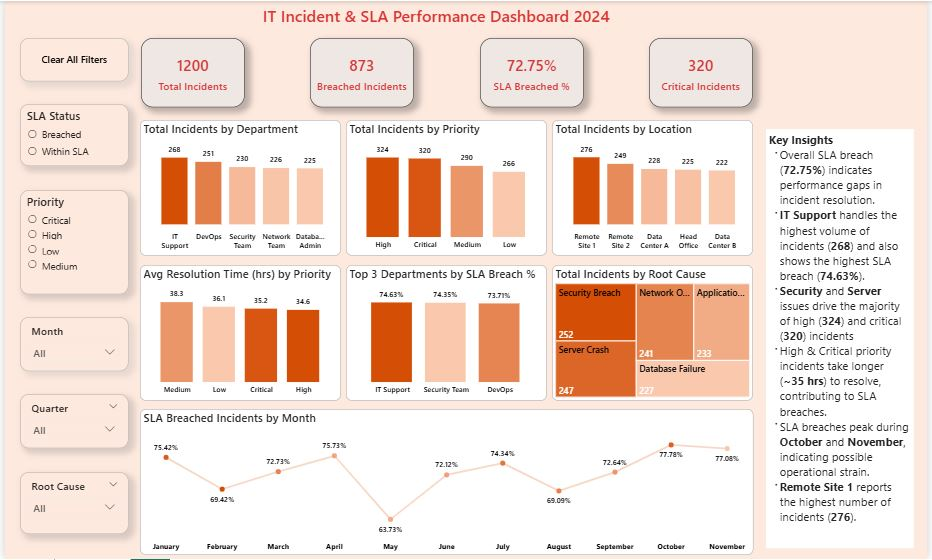

What the dashboard file says about the page in this screenshot:
{"tool":"powerbi","page":{"name":"Page 1","canvas":[1530,925],"ordinal":0},"visuals":[{"type":"textbox","box":[330,0,770,46.7],"z":0},{"type":"columnChart","title":"Total Incidents by Department","fields":{"Category":["it_incident_dataset.Assigned_Department"],"Y":["it_incident_dataset.Total Incidents"]},"box":[223.3,197.8,333.3,225],"z":1000},{"type":"columnChart","fields":{"Category":["it_incident_dataset.Priority"],"Y":["it_incident_dataset.Total Incidents"]},"box":[565.2,197.8,333,225],"z":2000},{"type":"card","fields":{"Values":["it_incident_dataset.Total Incidents"]},"box":[225,61.9,172,115],"z":3000},{"type":"card","fields":{"Values":["it_incident_dataset.SLA Breach %"]},"box":[787.2,61.9,172,115],"z":4000},{"type":"card","fields":{"Values":["it_incident_dataset.Breached Incidents"]},"box":[506.1,61.9,172,115],"z":5000},{"type":"card","fields":{"Values":["it_incident_dataset.Critical Incidents"]},"box":[1068.3,61.9,171.7,115],"z":6000},{"type":"columnChart","fields":{"Category":["it_incident_dataset.Location"],"Y":["it_incident_dataset.Total Incidents"]},"box":[906.7,197.8,333.3,225],"z":7000},{"type":"columnChart","title":"Avg Resolution Time (hrs) by Priority","fields":{"Category":["it_incident_dataset.Priority"],"Y":["it_incident_dataset.Avg_Resolution_time"]},"box":[223.3,436.9,333.3,225],"z":8000},{"type":"lineChart","title":"SLA Breached Incidents by Month","fields":{"Y":["it_incident_dataset.SLA Breach"],"Category":["it_incident_dataset.Reported_Time.Variation.Date Hierarchy.Quarter","it_incident_dataset.Reported_Time.Variation.Date Hierarchy.Month"]},"box":[223.3,676.7,1016.7,241.7],"z":9000},{"type":"columnChart","title":"Top 3 Departments by SLA Breach %","fields":{"Category":["it_incident_dataset.Assigned_Department"],"Y":["it_incident_dataset.SLA Breach"]},"box":[565.2,436.9,333,225],"z":10000},{"type":"treemap","fields":{"Group":["it_incident_dataset.Incident_Type"],"Values":["it_incident_dataset.Total Incidents"]},"box":[906.7,436.9,333.3,225],"z":11000},{"type":"listSlicer","fields":{"Values":["it_incident_dataset.Priority"]},"box":[25,312.7,180,173.3],"z":12000},{"type":"slicer","fields":{"Values":["it_incident_dataset.Reported_Time.Variation.Date Hierarchy.Month"]},"box":[25,524,180,90],"z":13000},{"type":"slicer","fields":{"Values":["it_incident_dataset.Reported_Time.Variation.Date Hierarchy.Quarter"]},"box":[25,652,180,90],"z":14000},{"type":"slicer","fields":{"Values":["it_incident_dataset.Incident_Type"]},"box":[25,780,180,103.3],"z":15000},{"type":"actionButton","box":[25,61.7,180,71.7],"z":16000},{"type":"listSlicer","fields":{"Values":["it_incident_dataset.SLA Status"]},"box":[25,171.3,180,103.3],"z":17000},{"type":"textbox","box":[1261.7,211.7,245,695],"z":18000}]}

Visuals, with their boxes in screenshot pixels (x1, y1, x2, y2), scaled from the page's 1530x925 canvas onto the 932x560 screenshot:
textbox: box=[201, 0, 670, 28]
"Total Incidents by Department" columnChart: box=[136, 120, 339, 256]
columnChart - it_incident_dataset.Priority x it_incident_dataset.Total Incidents: box=[344, 120, 547, 256]
card - it_incident_dataset.Total Incidents: box=[137, 37, 242, 107]
card - it_incident_dataset.SLA Breach %: box=[480, 37, 584, 107]
card - it_incident_dataset.Breached Incidents: box=[308, 37, 413, 107]
card - it_incident_dataset.Critical Incidents: box=[651, 37, 755, 107]
columnChart - it_incident_dataset.Location x it_incident_dataset.Total Incidents: box=[552, 120, 755, 256]
"Avg Resolution Time (hrs) by Priority" columnChart: box=[136, 265, 339, 401]
"SLA Breached Incidents by Month" lineChart: box=[136, 410, 755, 556]
"Top 3 Departments by SLA Breach %" columnChart: box=[344, 265, 547, 401]
treemap - it_incident_dataset.Incident_Type x it_incident_dataset.Total Incidents: box=[552, 265, 755, 401]
listSlicer - it_incident_dataset.Priority: box=[15, 189, 125, 294]
slicer - it_incident_dataset.Reported_Time.Variation.Date Hierarchy.Month: box=[15, 317, 125, 372]
slicer - it_incident_dataset.Reported_Time.Variation.Date Hierarchy.Quarter: box=[15, 395, 125, 449]
slicer - it_incident_dataset.Incident_Type: box=[15, 472, 125, 535]
actionButton: box=[15, 37, 125, 81]
listSlicer - it_incident_dataset.SLA Status: box=[15, 104, 125, 166]
textbox: box=[769, 128, 918, 549]
